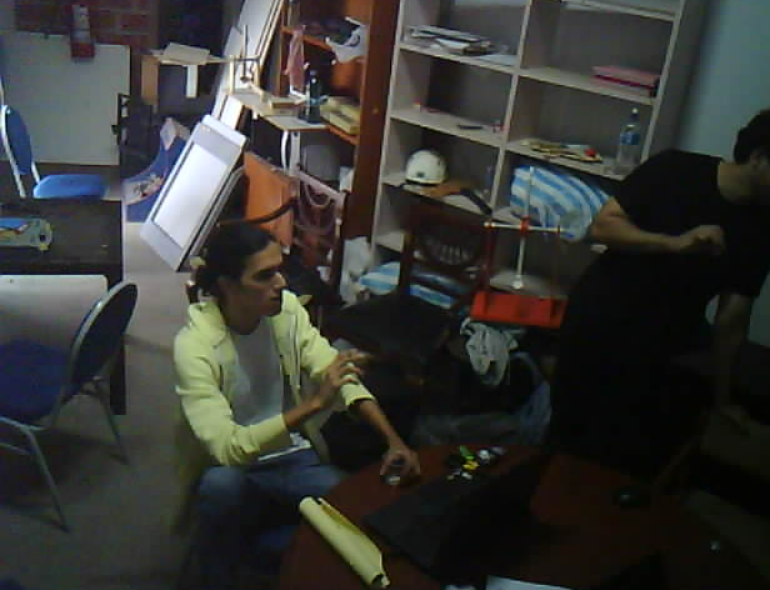person: (155, 204, 424, 590), (529, 81, 770, 486)
